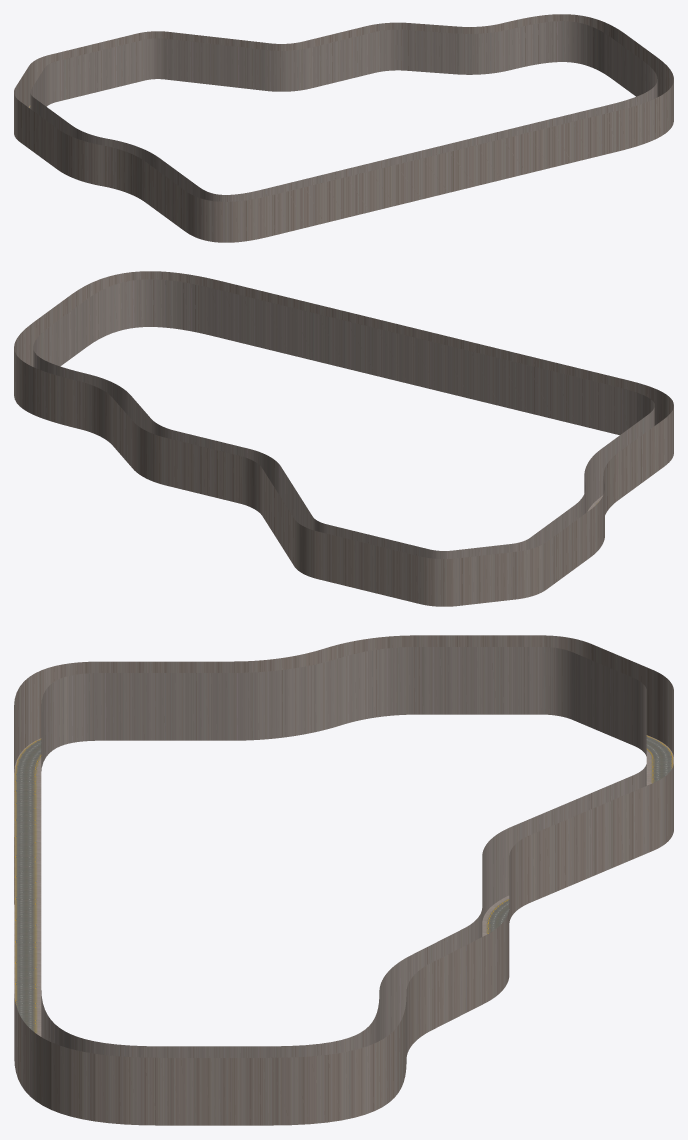
File: AutopistaCollider.FBX
The picture shows the model from 3 angles, top to bottom: view 1: azimuth 30°, elevation 25°; view 2: azimuth 150°, elevation 25°; view 3: azimuth 270°, elevation 25°; orthographic projection. The views are drawn at different scales.
Parts seen in each view (by area): view 1: AutopistaCollision; view 2: AutopistaCollision; view 3: AutopistaCollision.
Boxes of the visible parts, x1=… form: AutopistaCollision: x1=14, y1=14, x2=673, y2=242; AutopistaCollision: x1=14, y1=271, x2=673, y2=606; AutopistaCollision: x1=14, y1=635, x2=673, y2=1125.
Bounding box in the file's own units: 486 × 36.32 × 321.
